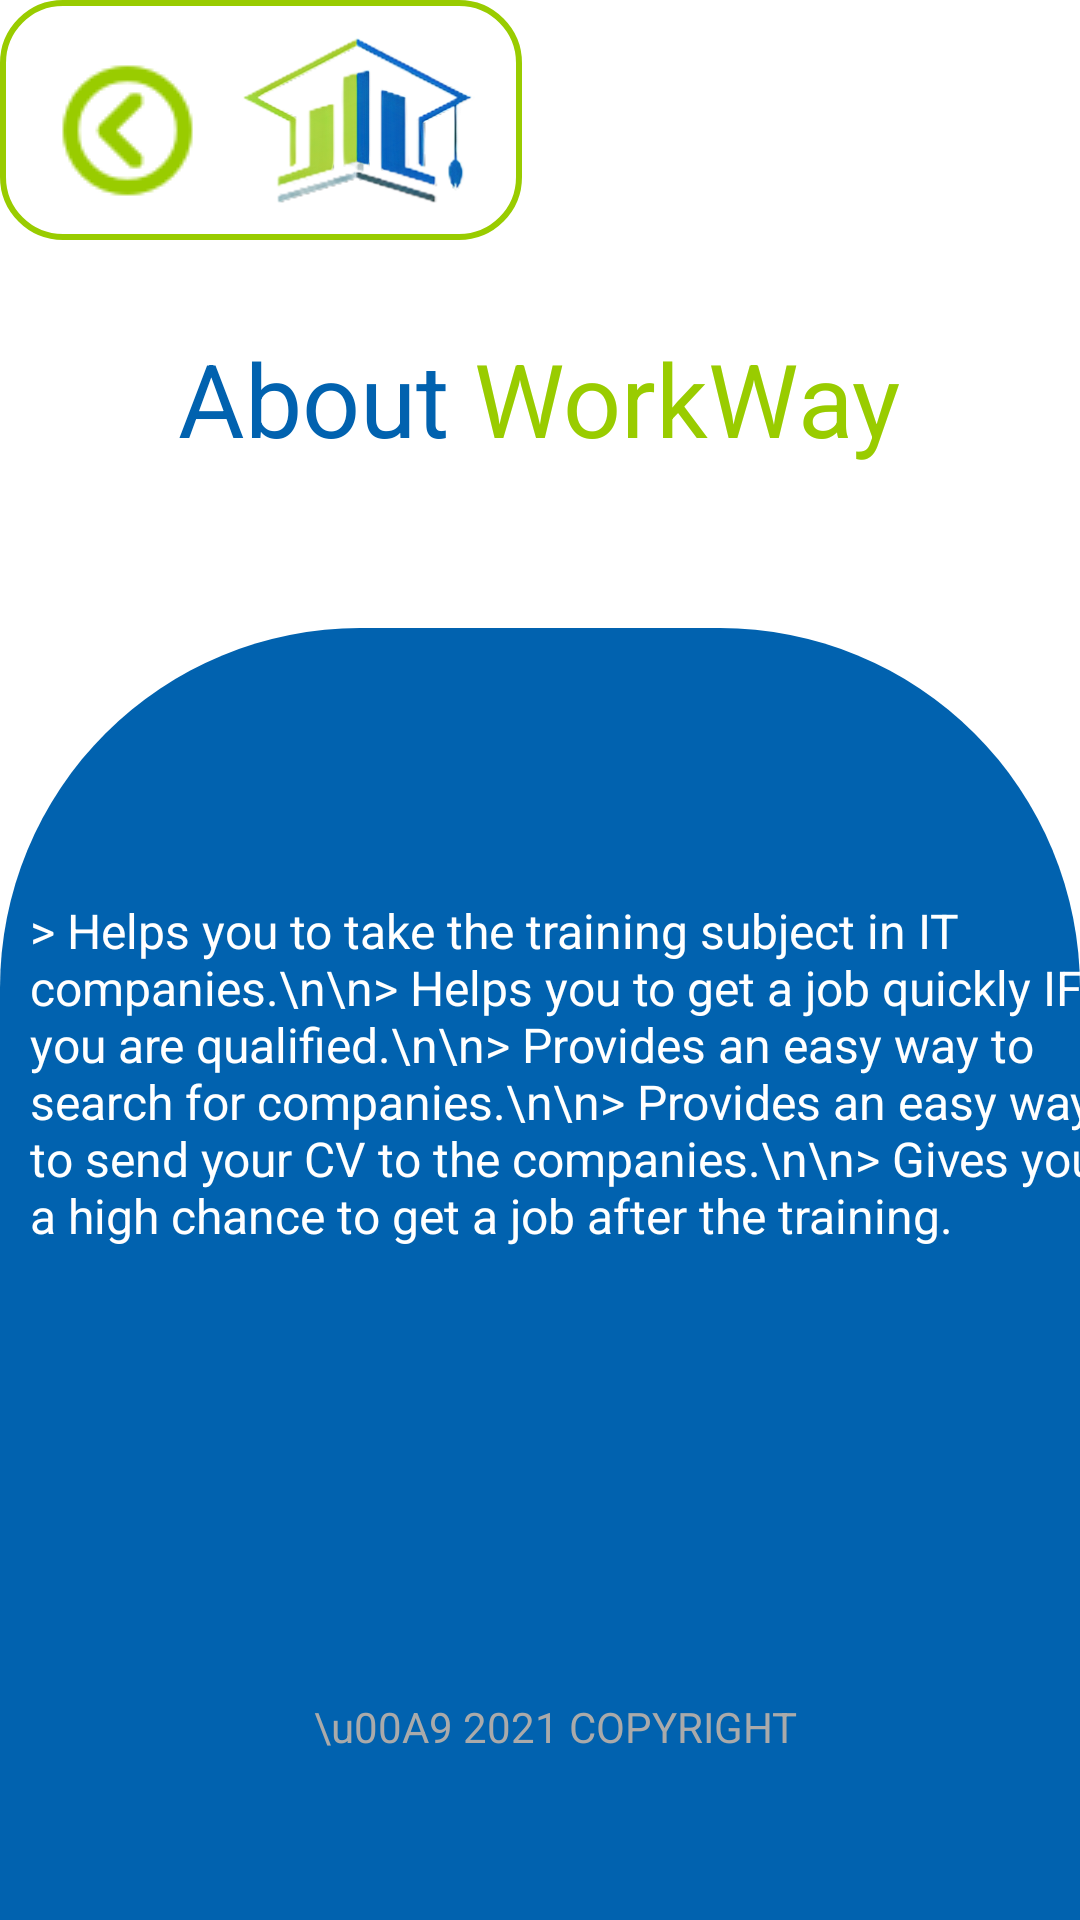

Icons on this 1080px×1920px Android screen, each with its box as region(x1, y1, x2, y2):
back: region(62, 65, 193, 196)
